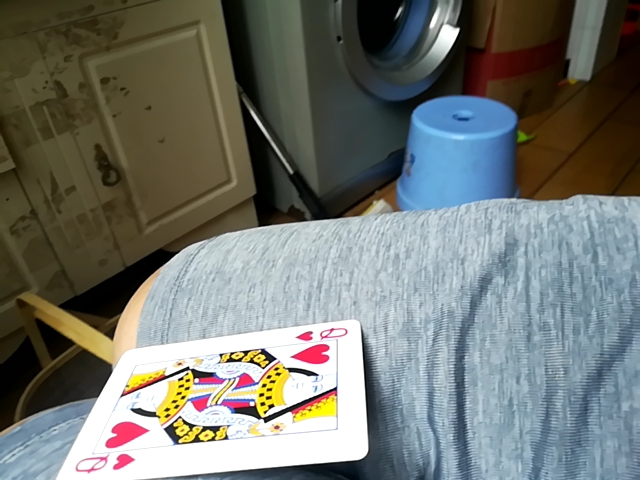hx q: (65, 321, 371, 476)
